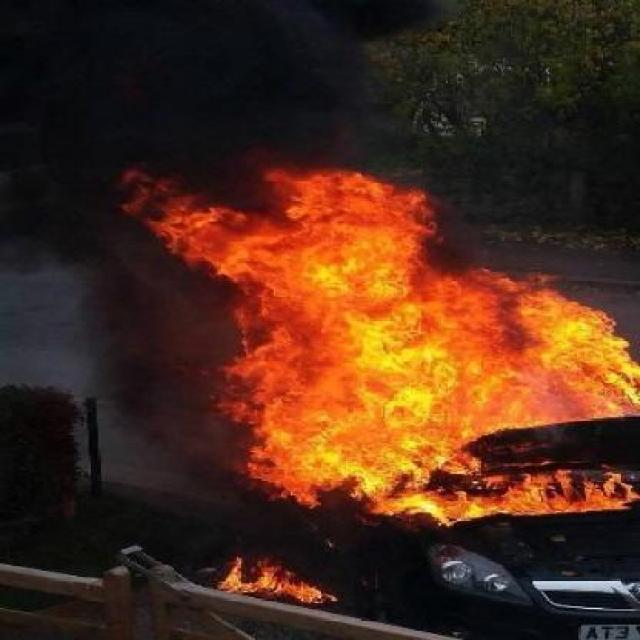Fire: (123, 165, 640, 533), (190, 546, 336, 612)
Smoke: (9, 173, 260, 510), (3, 0, 396, 163)
